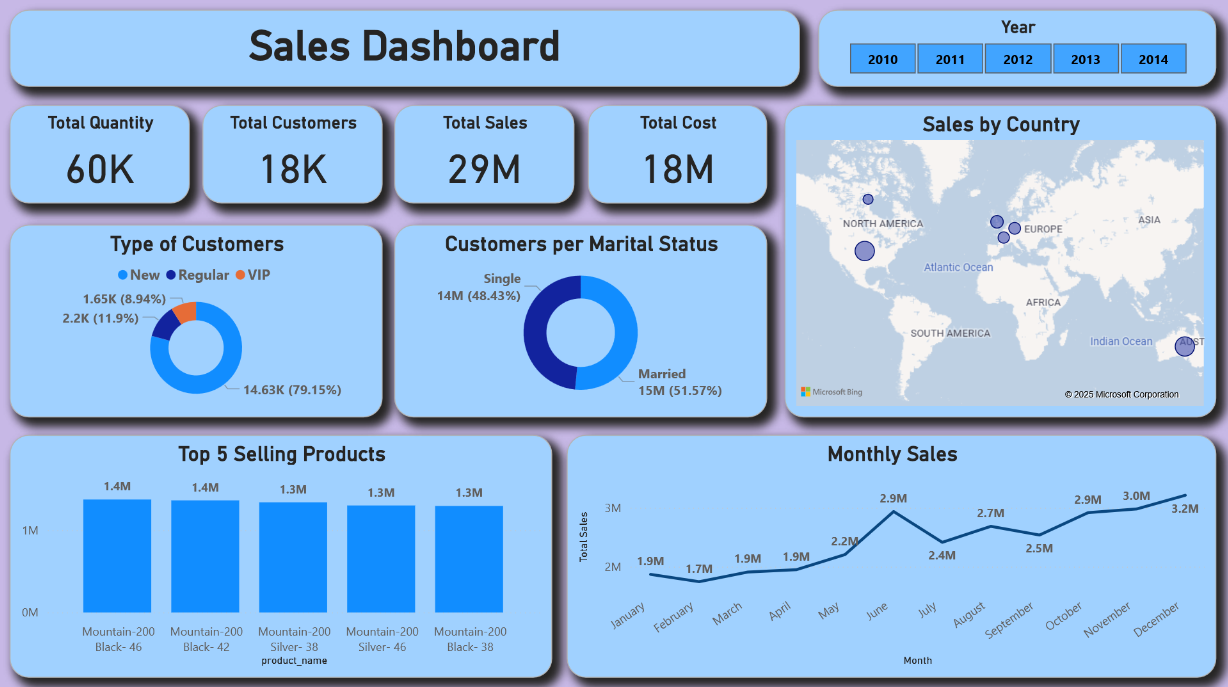

The dashboard page shown, as its layout file describes it:
{"tool":"powerbi","page":{"name":"Sales","canvas":[1280,720],"ordinal":0},"visuals":[{"type":"textbox","box":[14.9,12.4,819.8,79.6],"z":0},{"type":"card","title":"Total Quantity","fields":{"Values":["Sum(gold fact_sales.quantity)"]},"box":[15.1,111.1,186.6,101.5],"z":1000},{"type":"columnChart","title":"Top 5 Selling Products","fields":{"Category":["gold dim_products.product_name"],"Y":["gold fact_sales.Total Revenue"]},"box":[15.1,452.8,562.6,252.5],"z":2000},{"type":"map","title":"Sales by Country","fields":{"Category":["gold dim_customers.country"],"Size":["Sum(gold fact_sales.sales_amount)"]},"box":[819.2,111.1,447.3,323.8],"z":3000},{"type":"card","title":"Total Customers","fields":{"Values":["Count(gold fact_sales.customer_key)"]},"box":[215.4,111.1,186.6,101.5],"z":4000},{"type":"donutChart","title":"Type of Customers","fields":{"Category":["gold report_customers.customer_segment"],"Y":["CountNonNull(gold report_customers.customer_segment)"]},"box":[15.1,234.6,387,200.3],"z":5000},{"type":"card","title":"Total Sales","fields":{"Values":["Sum(gold fact_sales.sales_amount)"]},"box":[414.4,111.1,186.6,101.5],"z":6000},{"type":"slicer","title":"Year","fields":{"Values":["gold fact_sales.order_date.Variation.Date Hierarchy.Year"]},"box":[853.5,12.3,413,79.6],"z":7000},{"type":"lineChart","title":"Monthly Sales","fields":{"Category":["gold fact_sales.order_date.Variation.Date Hierarchy.Year","gold fact_sales.order_date.Variation.Date Hierarchy.Quarter","gold fact_sales.order_date.Variation.Date Hierarchy.Month","gold fact_sales.order_date.Variation.Date Hierarchy.Day"],"Y":["Sum(gold fact_sales.sales_amount)"]},"box":[592.8,452.8,673.8,252.5],"z":8000},{"type":"donutChart","title":"Customers per Marital Status","fields":{"Category":["gold dim_customers.marital_status"],"Y":["Sum(gold fact_sales.sales_amount)"]},"box":[414.4,234.6,387,200.3],"z":9000},{"type":"card","title":"Total Cost","fields":{"Values":["gold fact_sales.TotalCostFiltered"]},"box":[614.8,111.1,186.6,101.5],"z":10000}]}

Visuals, with their boxes in screenshot pixels (x1, y1, x2, y2), scaled from the page's 1280x720 canvas onto the 1228x687 screenshot:
textbox: {"left": 14, "top": 12, "right": 801, "bottom": 88}
"Total Quantity" card: {"left": 14, "top": 106, "right": 194, "bottom": 203}
"Top 5 Selling Products" columnChart: {"left": 14, "top": 432, "right": 554, "bottom": 673}
"Sales by Country" map: {"left": 786, "top": 106, "right": 1215, "bottom": 415}
"Total Customers" card: {"left": 207, "top": 106, "right": 386, "bottom": 203}
"Type of Customers" donutChart: {"left": 14, "top": 224, "right": 386, "bottom": 415}
"Total Sales" card: {"left": 398, "top": 106, "right": 577, "bottom": 203}
"Year" slicer: {"left": 819, "top": 12, "right": 1215, "bottom": 88}
"Monthly Sales" lineChart: {"left": 569, "top": 432, "right": 1215, "bottom": 673}
"Customers per Marital Status" donutChart: {"left": 398, "top": 224, "right": 769, "bottom": 415}
"Total Cost" card: {"left": 590, "top": 106, "right": 769, "bottom": 203}
